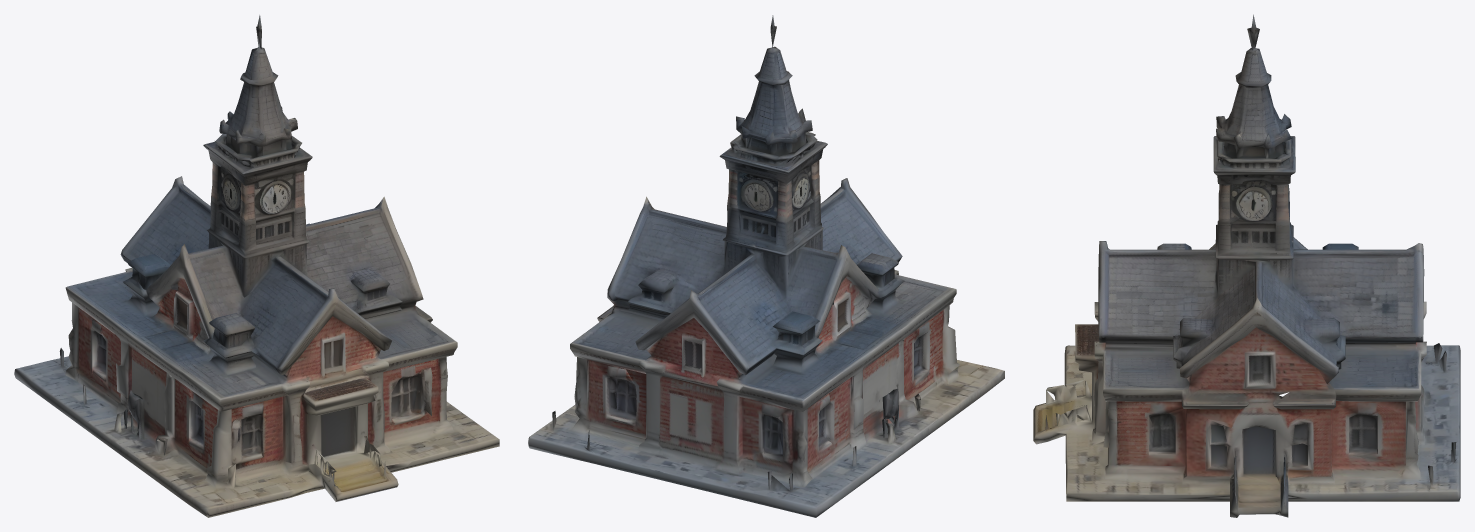
File: settlement.glb
The picture shows the model from 3 angles, left to right: view 1: azimuth 30°, elevation 25°; view 2: azimuth 150°, elevation 25°; view 3: azimuth 270°, elevation 25°; orthographic projection. The views are drawn at different scales.
Visible parts, largest first — view 1: body; view 2: body; view 3: body.
Boxes of the visible parts, x1,y1,x2,y2 form: body: (14,15,499,517); body: (528,15,1004,517); body: (1033,14,1460,517).
Bounding box in the file's own units: 10.37 × 12.47 × 11.6.
Materials: 1 (1 with a texture image).
